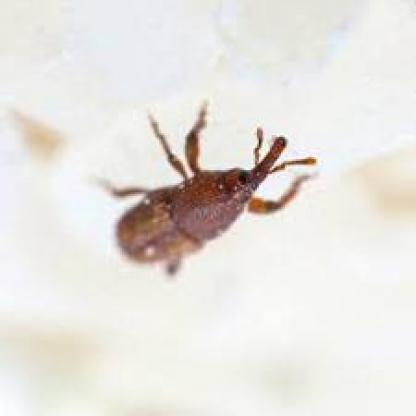rice-bug: (110, 119, 312, 279)
